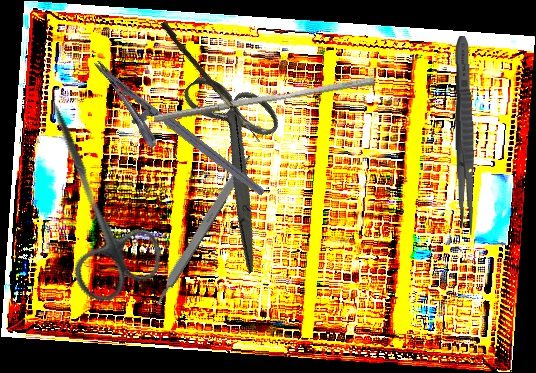Dressing Forceps: (451, 35, 479, 236)
Hook Surgical: (158, 20, 266, 143)
Iris Scissors: (129, 54, 345, 275), (8, 86, 172, 310)
Needle Holder: (74, 58, 267, 220)
Pusher: (153, 68, 376, 132)
Scalpel Handle: (150, 152, 254, 306)
